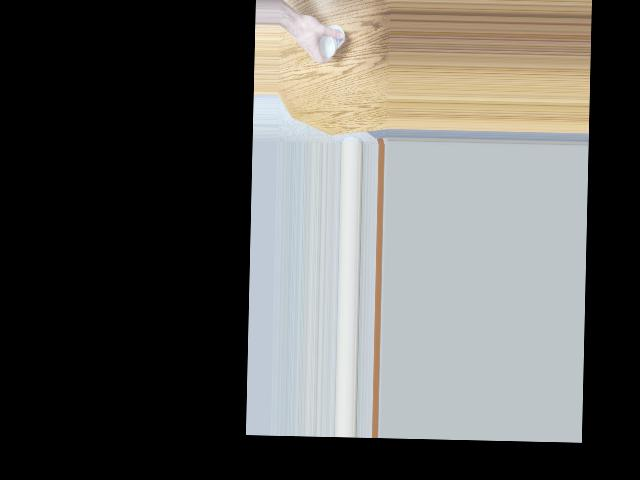cotage: (320, 22, 346, 64)
